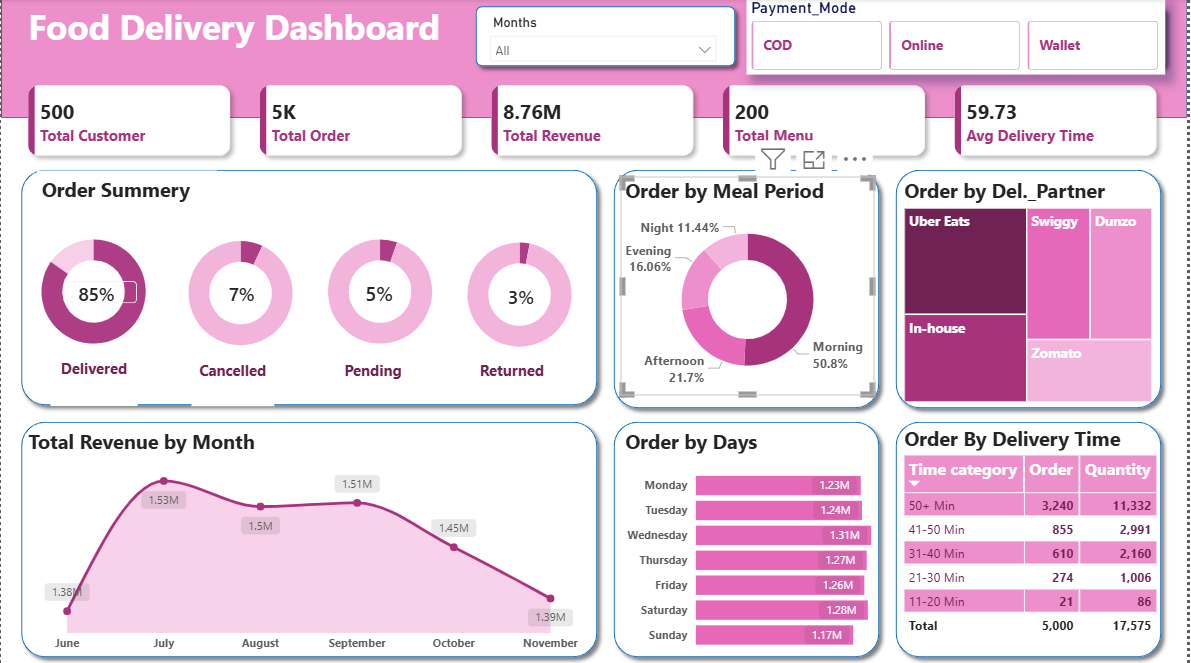

The dashboard page shown, as its layout file describes it:
{"tool":"powerbi","page":{"name":"Page 1","canvas":[1280,720],"ordinal":0},"visuals":[{"type":"shape","box":[0,0,1280.8,129.5],"z":0},{"type":"shape","box":[13,176.5,639.6,272],"z":1000},{"type":"shape","box":[13,448.5,639.6,272],"z":2000},{"type":"shape","box":[652.5,176.5,304.4,275.3],"z":3000},{"type":"shape","box":[957,176.5,304.4,275.3],"z":4000},{"type":"shape","box":[652.5,448.5,304.4,272],"z":5000},{"type":"shape","box":[957,448.5,304.4,272],"z":6000},{"type":"donutChart","fields":{"Y":["1_Measures.Delivered","1_Measures.Other(Delivered)"]},"box":[24.3,223.5,150.6,186.2],"z":7000},{"type":"textbox","box":[53.4,383.8,93.9,56.7],"z":8000},{"type":"textbox","box":[205.6,385.4,89.1,55.1],"z":9000},{"type":"textbox","box":[364.3,385.4,74.5,42.1],"z":10000},{"type":"textbox","box":[506.8,385.4,89.1,45.3],"z":11000},{"type":"cardVisual","fields":{"Data":["1_Measures.% Delivered"]},"box":[53.4,288.2,110.1,58.3],"z":12000},{"type":"cardVisual","fields":{"Data":["1_Measures.% Returned"]},"box":[518.2,278.5,121.4,84.2],"z":13000},{"type":"cardVisual","fields":{"Data":["1_Measures.% Cancelled"]},"box":[217,265.6,105.2,106.9],"z":14000},{"type":"cardVisual","fields":{"Data":["1_Measures.% Pending"]},"box":[364.3,273.6,127.9,87.4],"z":15000},{"type":"donutChart","fields":{"Y":["1_Measures.Pending","1_Measures.Other(Pending)"]},"box":[333.6,223.5,150.6,186.2],"z":16000},{"type":"donutChart","fields":{"Y":["1_Measures.Returned","1_Measures.Other(Returned)"]},"box":[484.1,226.7,150.6,186.2],"z":17000},{"type":"donutChart","fields":{"Y":["1_Measures.Cancelled","1_Measures.Other(Cancelled)"]},"box":[183,225.1,150.6,186.2],"z":18000},{"type":"textbox","box":[38.9,186.2,194.3,45.3],"z":19000},{"type":"areaChart","fields":{"Category":["Orders.Order_Date.1.Variation.Date Hierarchy.Month"],"Y":["1_Measures.Total Revenue"]},"box":[24.3,463.1,615.3,251],"z":20000},{"type":"cardVisual","fields":{"Data":["1_Measures.Total Customer","1_Measures.Total Order","1_Measures.Total Revenue","1_Measures.Total Menu","1_Measures.Avg Delivery Time"]},"box":[0,64.8,1280.8,134.4],"z":21000},{"type":"donutChart","title":" Order by Meal Period","fields":{"Category":["Orders.Meal Period"],"Y":["1_Measures.Total Order"]},"box":[668.7,192.7,273.6,236.4],"z":22000},{"type":"treemap","title":"Order by Del._Partner","fields":{"Group":["Orders.Delivery_Partner"],"Values":["1_Measures.Total Order"]},"box":[969.9,192.7,276.9,247.7],"z":23000},{"type":"shape","box":[503.6,0,297.9,82.6],"z":24000},{"type":"clusteredBarChart","title":" Order by Days ","fields":{"Category":["Orders.Days Name","Orders.DayNumber"],"Y":["1_Measures.Total Revenue"]},"box":[668.7,463.1,314.1,251],"z":25000},{"type":"shape","box":[796.7,0,469.6,84.2],"z":25500},{"type":"pivotTable","title":"Order By Delivery Time","fields":{"Rows":["Orders.Time category"],"Values":["CountNonNull(Orders.Order_ID)","Sum(Order_Items.Quantity)"]},"box":[969.9,459.9,297.9,247.7],"z":26000},{"type":"textbox","box":[24.3,0,506.8,64.8],"z":27000},{"type":"slicer","fields":{"Values":["Orders.Months"]},"box":[518.2,13,263.9,56.7],"z":28000},{"type":"advancedSlicerVisual","fields":{"Values":["Orders.Payment_Mode"]},"box":[804.8,0,451.8,82.6],"z":30000}]}

Visuals, with their boxes in screenshot pixels (x1, y1, x2, y2), scaled from the page's 1280x720 canvas onto the 1191x663 screenshot:
shape: rect(0, 0, 1190, 119)
shape: rect(12, 163, 607, 413)
shape: rect(12, 413, 607, 662)
shape: rect(607, 163, 890, 416)
shape: rect(890, 163, 1174, 416)
shape: rect(607, 413, 890, 662)
shape: rect(890, 413, 1174, 662)
donutChart - 1_Measures.Delivered x 1_Measures.Other(Delivered): rect(23, 206, 163, 377)
textbox: rect(50, 353, 137, 406)
textbox: rect(191, 355, 274, 406)
textbox: rect(339, 355, 408, 394)
textbox: rect(472, 355, 554, 397)
cardVisual - 1_Measures.% Delivered: rect(50, 265, 152, 319)
cardVisual - 1_Measures.% Returned: rect(482, 256, 595, 334)
cardVisual - 1_Measures.% Cancelled: rect(202, 245, 300, 343)
cardVisual - 1_Measures.% Pending: rect(339, 252, 458, 332)
donutChart - 1_Measures.Pending x 1_Measures.Other(Pending): rect(310, 206, 451, 377)
donutChart - 1_Measures.Returned x 1_Measures.Other(Returned): rect(450, 209, 591, 380)
donutChart - 1_Measures.Cancelled x 1_Measures.Other(Cancelled): rect(170, 207, 310, 379)
textbox: rect(36, 171, 217, 213)
areaChart - Orders.Order_Date.1.Variation.Date Hierarchy.Month x 1_Measures.Total Revenue: rect(23, 426, 595, 658)
cardVisual - 1_Measures.Total Customer x 1_Measures.Total Order: rect(0, 60, 1190, 183)
" Order by Meal Period" donutChart: rect(622, 177, 877, 395)
"Order by Del._Partner" treemap: rect(902, 177, 1160, 406)
shape: rect(469, 0, 746, 76)
" Order by Days " clusteredBarChart: rect(622, 426, 914, 658)
shape: rect(741, 0, 1178, 78)
"Order By Delivery Time" pivotTable: rect(902, 423, 1180, 652)
textbox: rect(23, 0, 494, 60)
slicer - Orders.Months: rect(482, 12, 728, 64)
advancedSlicerVisual - Orders.Payment_Mode: rect(749, 0, 1169, 76)
